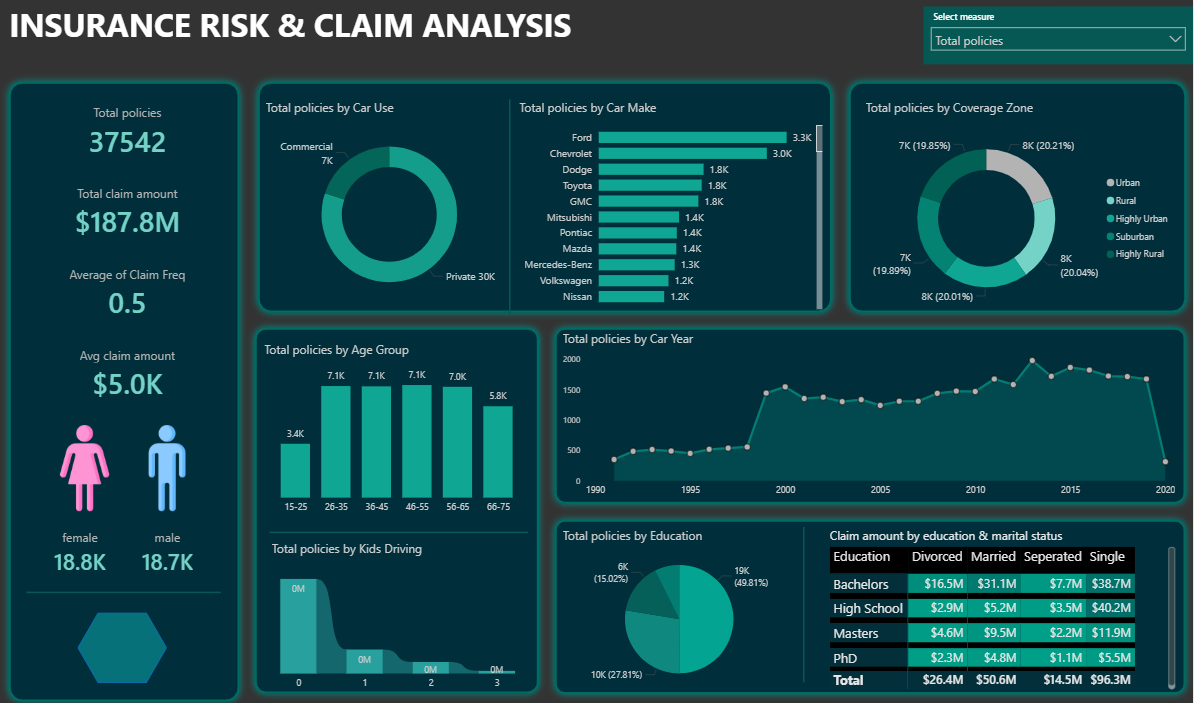

The dashboard page shown, as its layout file describes it:
{"tool":"powerbi","page":{"name":"Page 1","canvas":[1600,950],"ordinal":0},"visuals":[{"type":"textbox","box":[9.4,0,791.3,87.4],"z":0},{"type":"shape","box":[4.2,100.7,329.5,850],"z":1000},{"type":"cardVisual","fields":{"Data":["insurance_data_car.Total policies","insurance_data_car.Total claim amount","Avg(insurance_data_car.Claim Freq)","insurance_data_car.Avg claim amount"]},"box":[37.8,111.2,270.7,459.6],"z":2000},{"type":"cardVisual","fields":{"Data":["insurance_data_car.female count","insurance_data_car.male Count"]},"box":[37.8,686.3,260.2,109.1],"z":3000},{"type":"image","box":[58.8,570.9,115.4,115.4],"z":4000},{"type":"image","box":[167.9,570.9,115.4,115.4],"z":5000},{"type":"slicer","fields":{"Values":["Select measure.Select measure"]},"box":[1238.2,10.5,361,77.7],"z":6000},{"type":"shape","box":[337.9,100.7,789.1,329.5],"z":7000},{"type":"donutChart","fields":{"Y":["insurance_data_car.Total policies"],"Category":["insurance_data_car.Car Use"]},"box":[352.6,134.3,340,285.4],"z":8000},{"type":"clusteredBarChart","fields":{"Category":["insurance_data_car.Car Make"],"Y":["insurance_data_car.Total policies"]},"box":[692.6,134.3,415.5,285.4],"z":8001},{"type":"shape","box":[1127,100.7,472.2,329.5],"z":8002},{"type":"donutChart","fields":{"Y":["insurance_data_car.Total policies"],"Category":["insurance_data_car.Coverage Zone"]},"box":[1156.4,134.3,423.9,295.9],"z":8003},{"type":"shape","box":[333.7,430.2,400.9,510],"z":8004},{"type":"clusteredColumnChart","fields":{"Category":["insurance_data_car.Age Group"],"Y":["insurance_data_car.Total policies"]},"box":[350.5,457.5,365.2,239.3],"z":8005},{"type":"ribbonChart","fields":{"Category":["insurance_data_car.Kids Driving"],"Y":["insurance_data_car.Total policies"]},"box":[361,724.1,346.3,207.8],"z":8006},{"type":"shape","box":[734.6,430.2,864.7,256],"z":8007},{"type":"areaChart","fields":{"Category":["insurance_data_car.Car Year"],"Y":["insurance_data_car.Total policies"]},"box":[751.3,442.8,829,230.9],"z":8008},{"type":"shape","box":[734.6,686.3,864.7,253.9],"z":8009},{"type":"pieChart","fields":{"Category":["insurance_data_car.Education"],"Y":["insurance_data_car.Total policies"]},"box":[751.3,707.3,321.1,224.6],"z":8010},{"type":"pivotTable","title":"Claim amount by education & marital status","fields":{"Rows":["insurance_data_car.Education"],"Columns":["insurance_data_car.Marital Status"],"Values":["insurance_data_car.Total claim amount"]},"box":[1108.1,707.3,472.2,222.5],"z":8011},{"type":"shape","box":[654.8,134.3,60.9,287.5],"z":8012},{"type":"shape","box":[1047.3,707.3,60.9,207.8],"z":8013},{"type":"shape","box":[363.1,686.3,346.3,54.6],"z":8014},{"type":"shape","box":[37.8,766,260.2,54.6],"z":8015},{"type":"shape","box":[107,820.6,119.6,94.4],"z":8016}]}

Visuals, with their boxes in screenshot pixels (x1, y1, x2, y2), scaled from the page's 1600x950 canvas onto the 1194x703 screenshot:
textbox: x1=7, y1=0, x2=598, y2=65
shape: x1=3, y1=75, x2=249, y2=702
cardVisual - insurance_data_car.Total policies x insurance_data_car.Total claim amount: x1=28, y1=82, x2=230, y2=422
cardVisual - insurance_data_car.female count x insurance_data_car.male Count: x1=28, y1=508, x2=222, y2=589
image: x1=44, y1=422, x2=130, y2=508
image: x1=125, y1=422, x2=211, y2=508
slicer - Select measure.Select measure: x1=924, y1=8, x2=1193, y2=65
shape: x1=252, y1=75, x2=841, y2=318
donutChart - insurance_data_car.Total policies x insurance_data_car.Car Use: x1=263, y1=99, x2=517, y2=311
clusteredBarChart - insurance_data_car.Car Make x insurance_data_car.Total policies: x1=517, y1=99, x2=827, y2=311
shape: x1=841, y1=75, x2=1193, y2=318
donutChart - insurance_data_car.Total policies x insurance_data_car.Coverage Zone: x1=863, y1=99, x2=1179, y2=318
shape: x1=249, y1=318, x2=548, y2=696
clusteredColumnChart - insurance_data_car.Age Group x insurance_data_car.Total policies: x1=262, y1=339, x2=534, y2=516
ribbonChart - insurance_data_car.Kids Driving x insurance_data_car.Total policies: x1=269, y1=536, x2=528, y2=690
shape: x1=548, y1=318, x2=1193, y2=508
areaChart - insurance_data_car.Car Year x insurance_data_car.Total policies: x1=561, y1=328, x2=1179, y2=499
shape: x1=548, y1=508, x2=1193, y2=696
pieChart - insurance_data_car.Education x insurance_data_car.Total policies: x1=561, y1=523, x2=800, y2=690
"Claim amount by education & marital status" pivotTable: x1=827, y1=523, x2=1179, y2=688
shape: x1=489, y1=99, x2=534, y2=312
shape: x1=782, y1=523, x2=827, y2=677
shape: x1=271, y1=508, x2=529, y2=548
shape: x1=28, y1=567, x2=222, y2=607
shape: x1=80, y1=607, x2=169, y2=677
